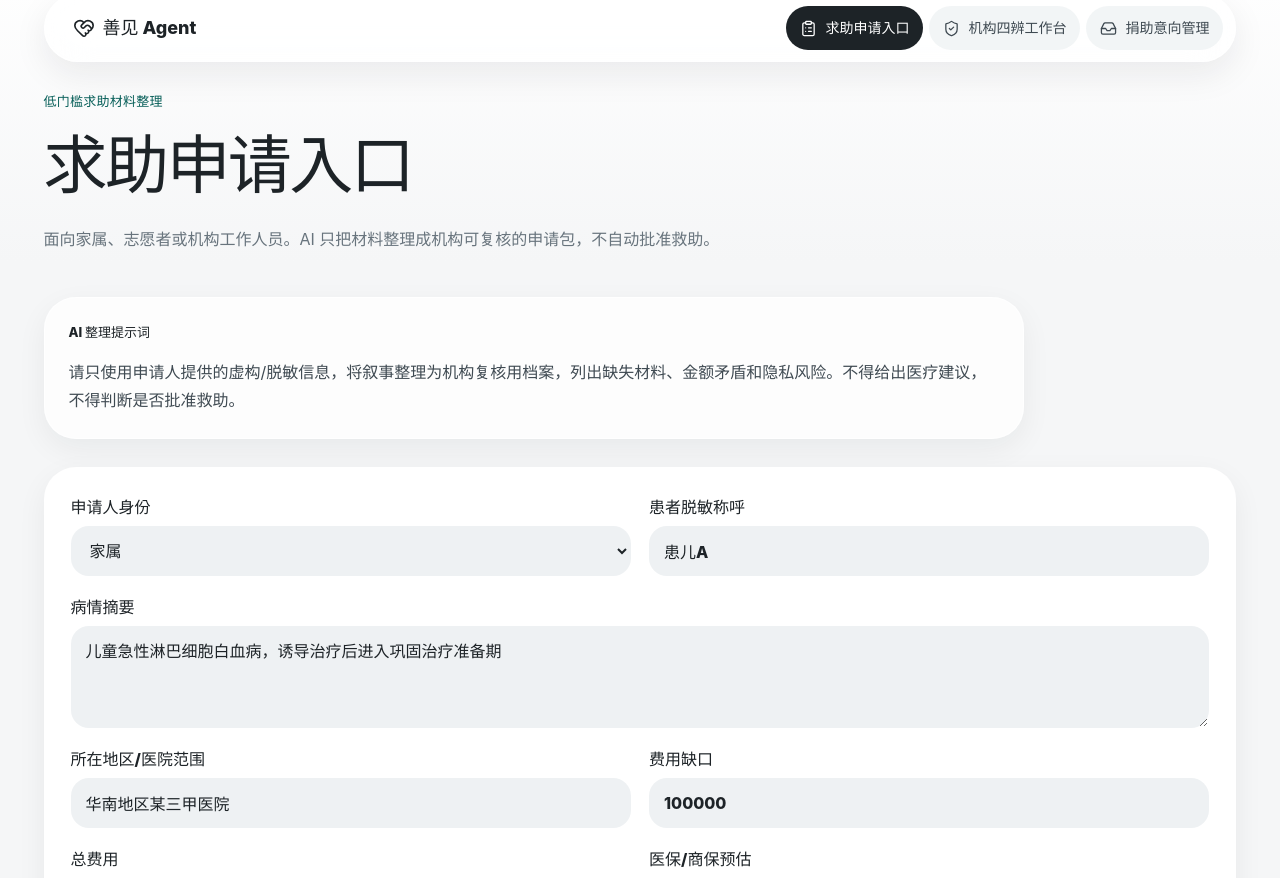
Test: Shanjian Agent flow › uses edited aid application values when generating the institution package
Replace the text in the field labelled "患者脱敏称呼" with "患儿Z" at [929, 551], box [649,526,1210,576]
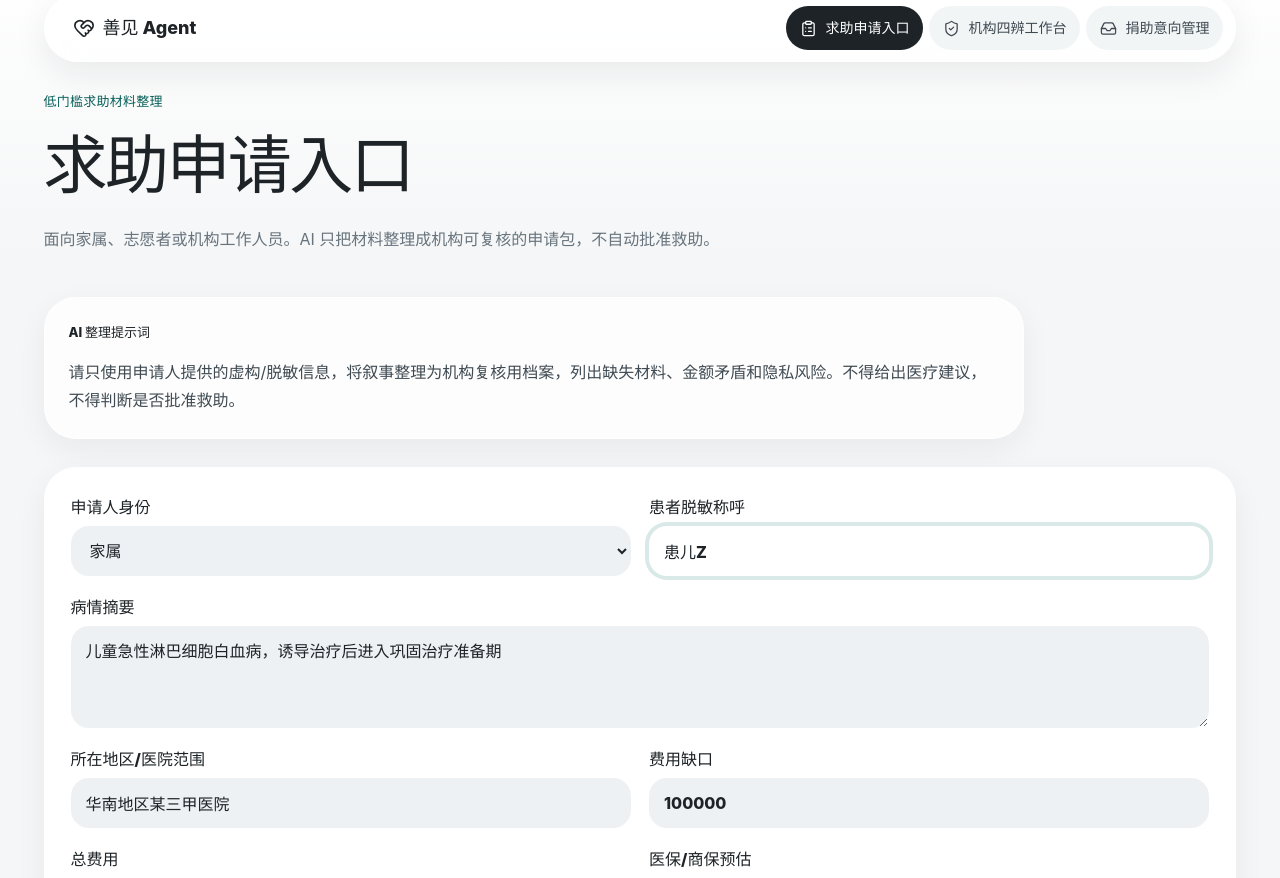
Replace the text in the field labelled "费用缺口" with "12345" at [929, 803], box [649,778,1210,828]
(page scrolled)
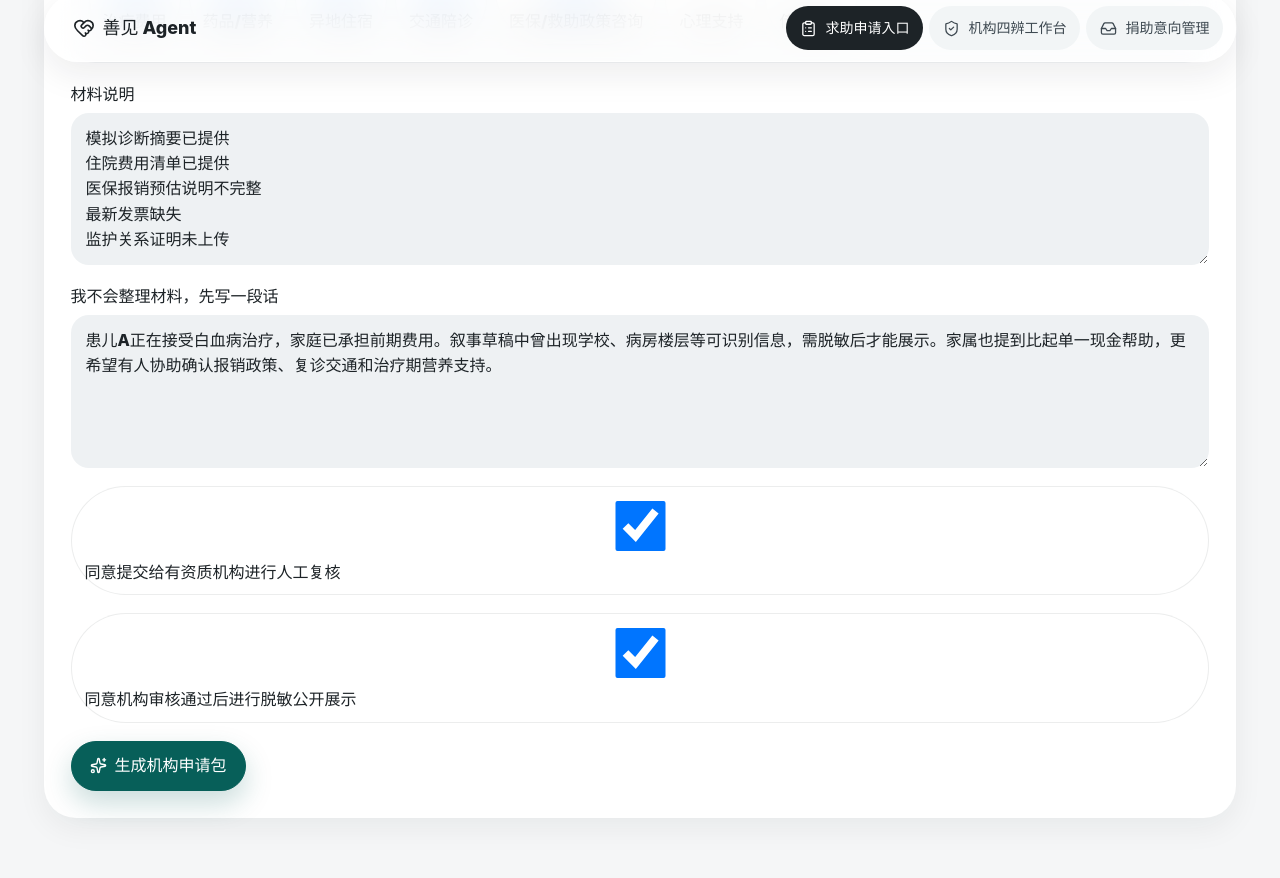
Click the button "生成机构申请包" at [158, 766], box [70,741,246,791]
(page scrolled)
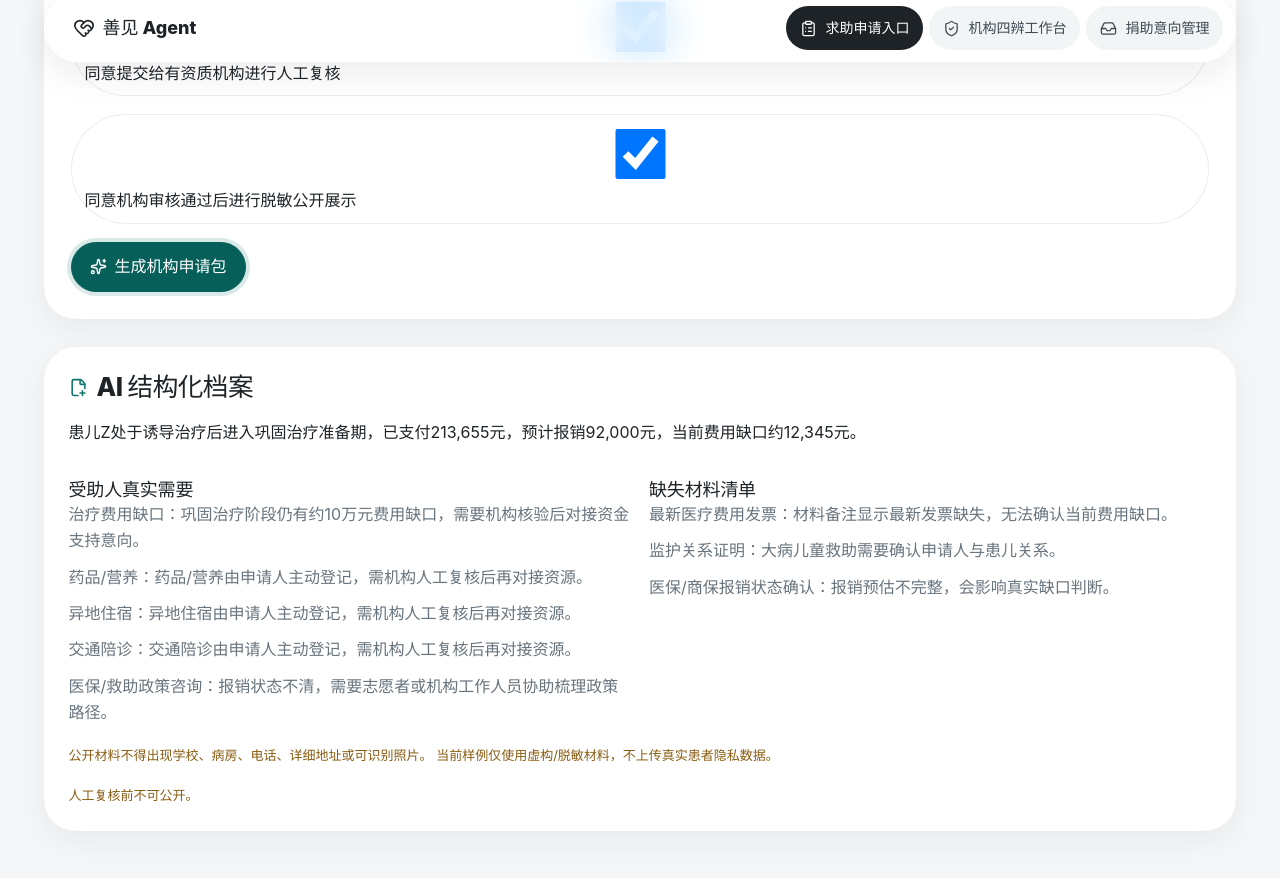
Expected: the text "12,345元" is shown, [68,422,866,442]
